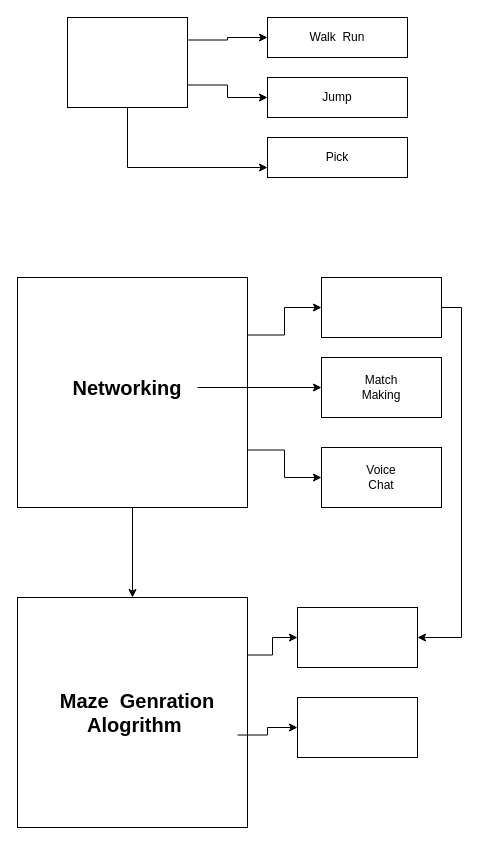
This 487x845 diagram has some shape labels left out. The centre of each missing label's shape, as x and y in pixels:
"Enemy" belongs at [357,727].
"Lobby" belongs at [381,307].
"Player Mechanics" belongs at [127,62].
"Spawn Point" belongs at [357,637].
